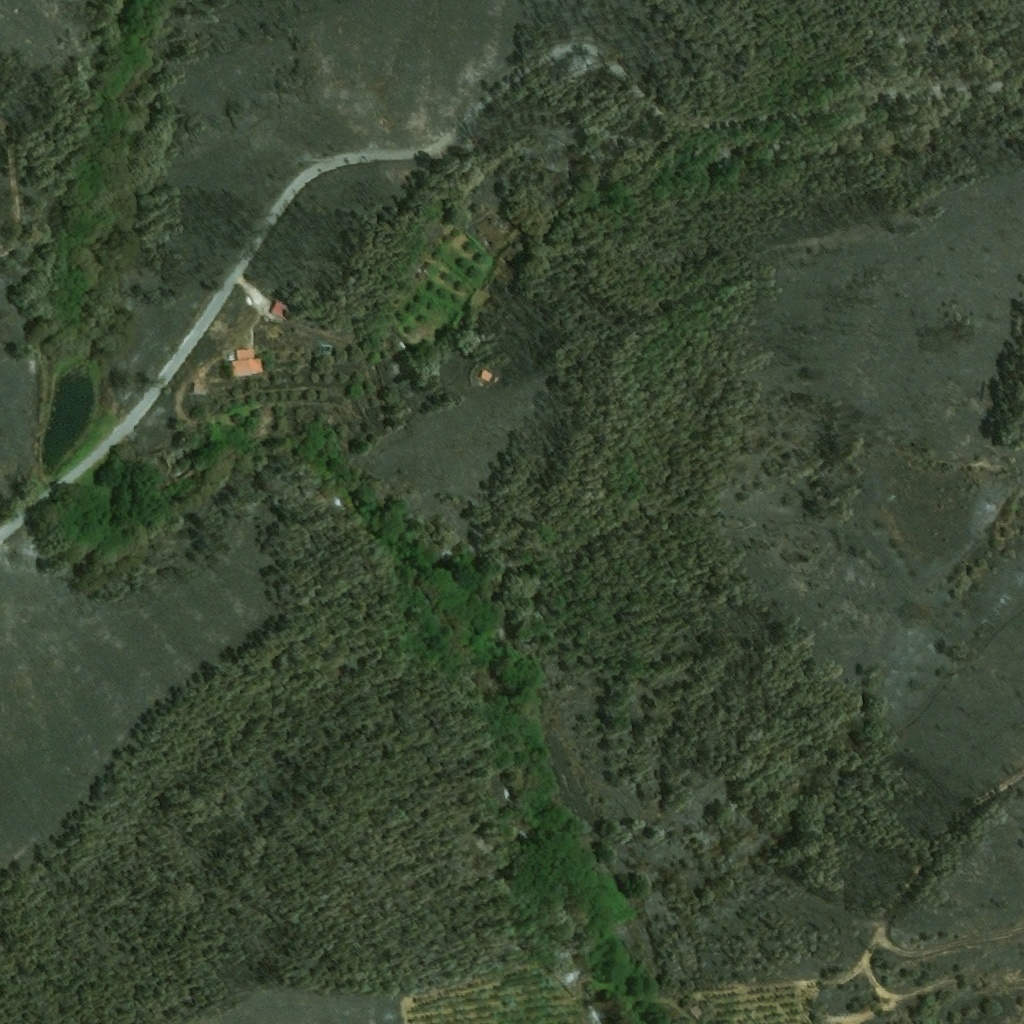0 no-damage: (229, 347, 262, 375), (268, 298, 292, 322), (481, 371, 494, 383), (320, 343, 334, 354), (191, 383, 199, 394)
